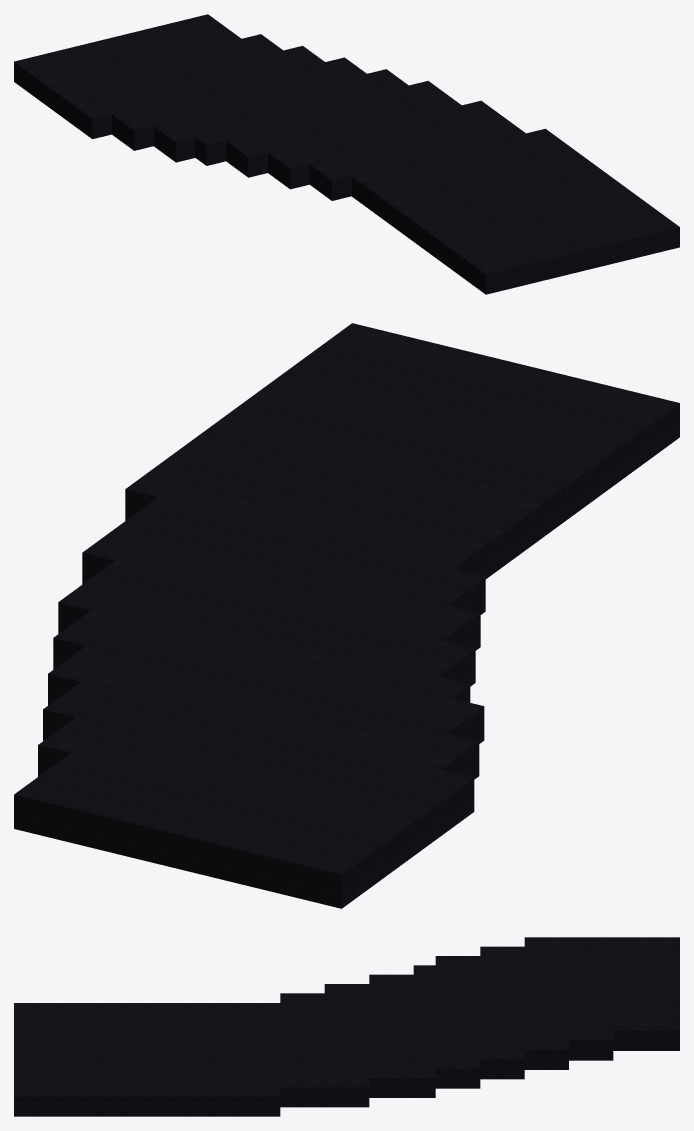
Rendered from CurvaCaverna3.fbx.
3 views of the same model, one above another, from view 1: azimuth 30°, elevation 25°; view 2: azimuth 150°, elevation 25°; view 3: azimuth 270°, elevation 25° (orthographic). The views are drawn at different scales.
Visible parts, largest first — view 1: Curva Caverna 3; view 2: Curva Caverna 3; view 3: Curva Caverna 3.
Boxes of the visible parts, x1,y1,x2,y2 form: Curva Caverna 3: [14, 14, 679, 294]; Curva Caverna 3: [14, 323, 679, 908]; Curva Caverna 3: [14, 937, 679, 1116].
Size of the model in its own units: 1700 by 100 by 3000.
1 material, 1 textured.
